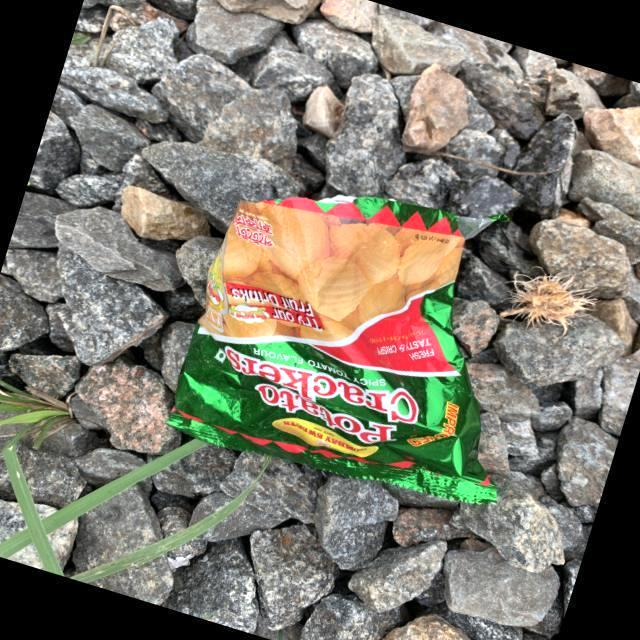packet: (198, 204, 455, 483)
